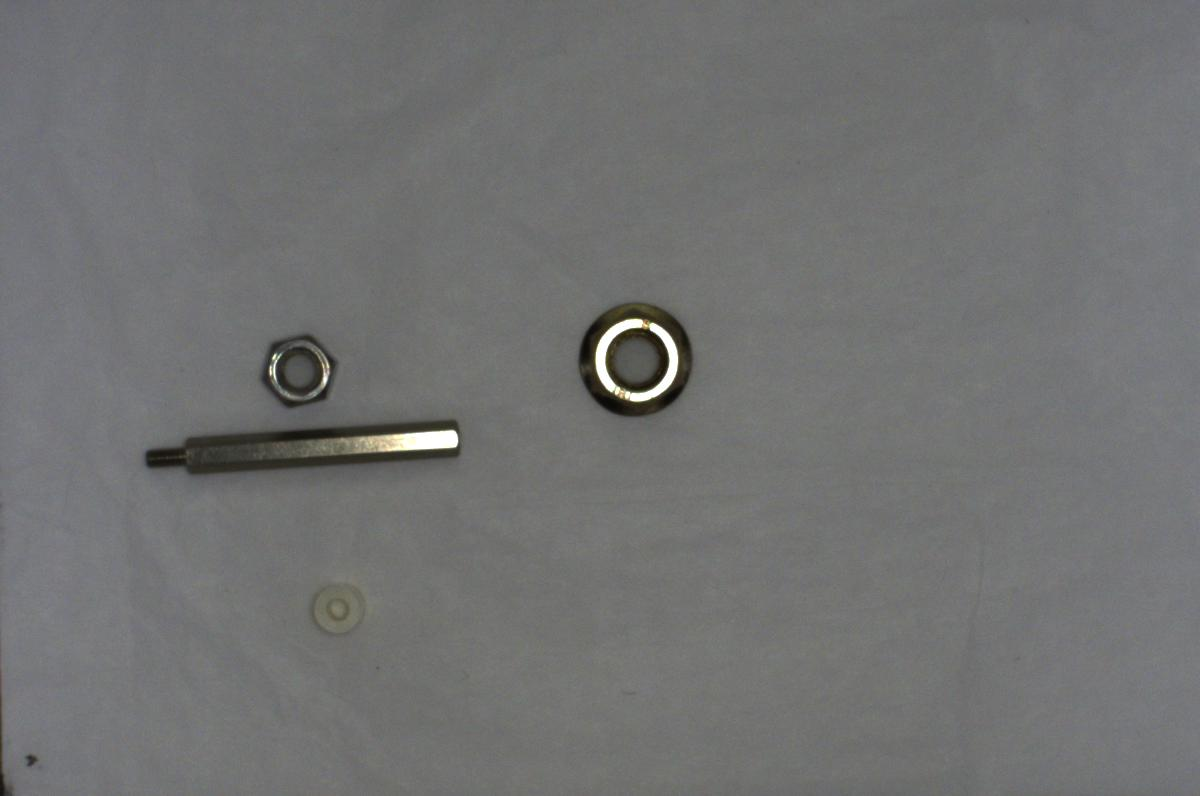Flange nut: (568, 299, 706, 416)
Hexagon nut: (232, 326, 340, 416)
Hexagonal steel column: (138, 414, 471, 482)
Plastic cushion pillar: (310, 578, 372, 638)
